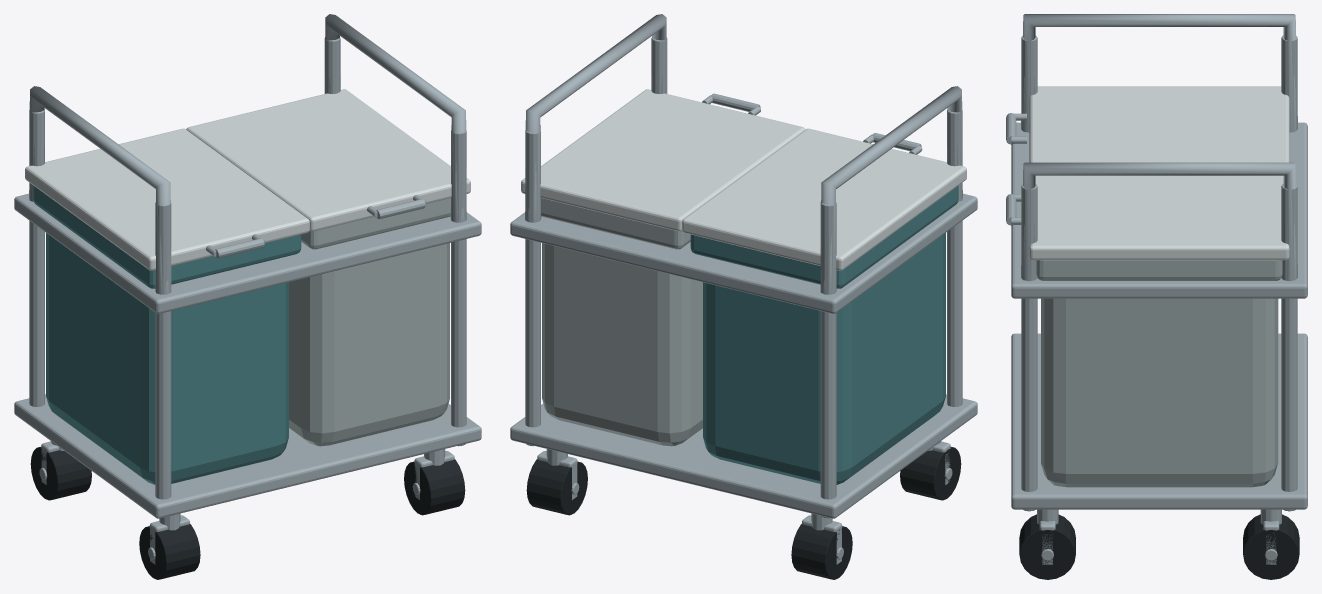
The model's file is SF_LinenReturnCart.fbx.
The picture shows the model from 3 angles, left to right: view 1: azimuth 30°, elevation 25°; view 2: azimuth 150°, elevation 25°; view 3: azimuth 270°, elevation 25°; orthographic projection. The views are drawn at different scales.
Parts seen in each view (by area): view 1: SF_LinenReturnCart; view 2: SF_LinenReturnCart; view 3: SF_LinenReturnCart.
Part boxes in pixels (bbox=[...]): SF_LinenReturnCart: bbox=[14, 14, 481, 579]; SF_LinenReturnCart: bbox=[510, 14, 977, 579]; SF_LinenReturnCart: bbox=[1006, 14, 1307, 579].
Size of the model in its own units: 85 by 101 by 66.1.
